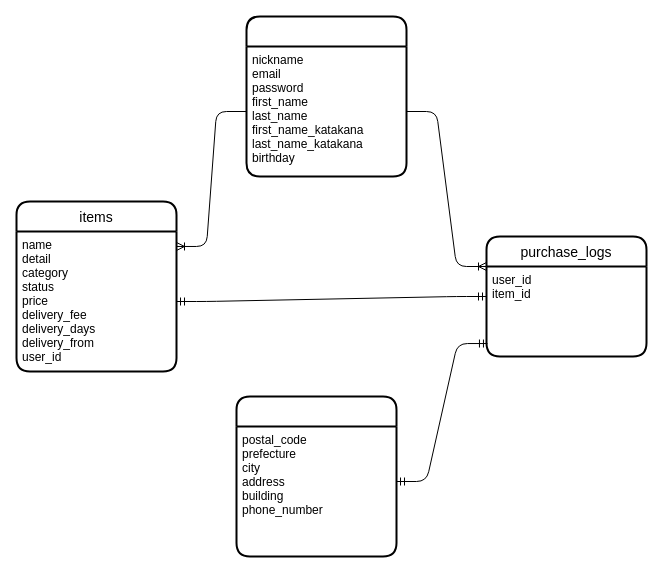
Image size: 663x573. Some labels were removed from this diagram. Each missing label, with the box of its shape:
purchases: (235, 395, 397, 557)
users: (245, 15, 407, 177)
